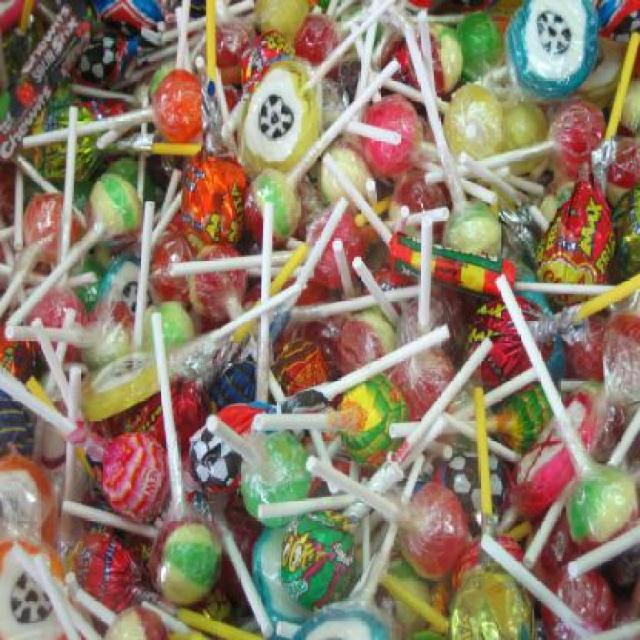Candy: (0, 0, 638, 638), (88, 433, 164, 524)
